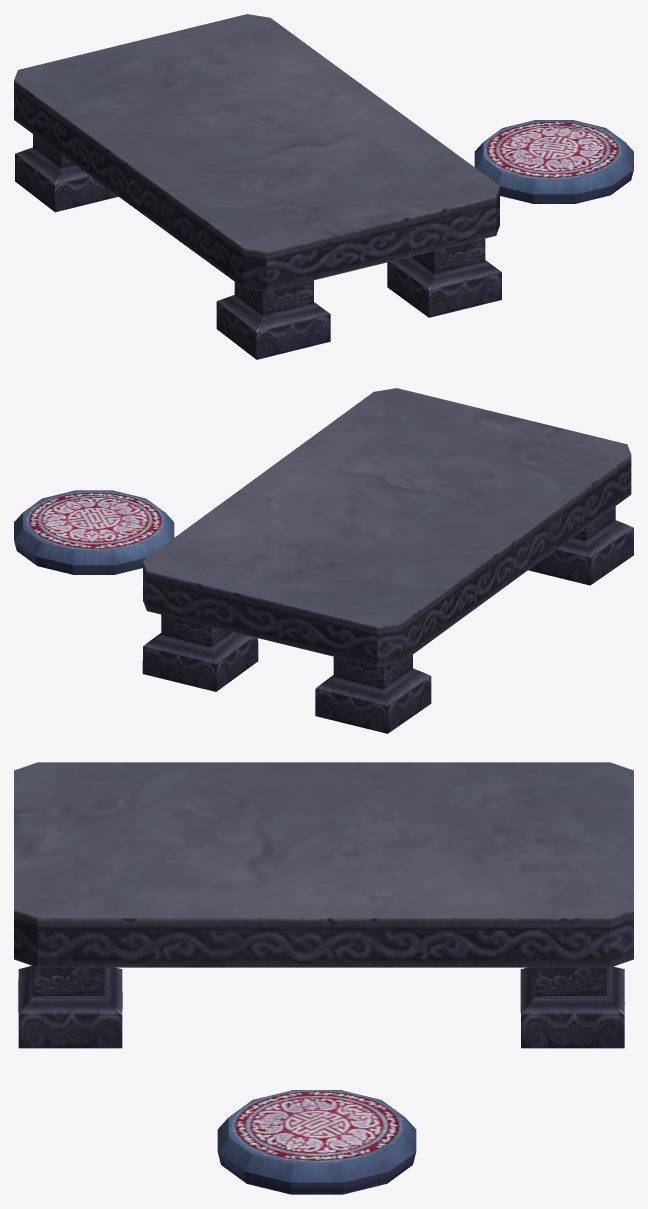
File: DZMG_YHY_ShiaZhuo.FBX
The picture shows the model from 3 angles, top to bottom: view 1: azimuth 30°, elevation 25°; view 2: azimuth 150°, elevation 25°; view 3: azimuth 270°, elevation 25°; orthographic projection. The views are drawn at different scales.
Parts seen in each view (by area): view 1: DZMG_YHY_ShiaZhuo, DZMG_YHY_ShiaZhuoPuTuan; view 2: DZMG_YHY_ShiaZhuo, DZMG_YHY_ShiaZhuoPuTuan; view 3: DZMG_YHY_ShiaZhuo, DZMG_YHY_ShiaZhuoPuTuan.
Boxes of the visible parts, <box> form: DZMG_YHY_ShiaZhuo: <box>14,14,501,359</box>; DZMG_YHY_ShiaZhuoPuTuan: <box>474,120,633,203</box>; DZMG_YHY_ShiaZhuo: <box>142,388,633,733</box>; DZMG_YHY_ShiaZhuoPuTuan: <box>14,490,174,574</box>; DZMG_YHY_ShiaZhuo: <box>14,762,633,1048</box>; DZMG_YHY_ShiaZhuoPuTuan: <box>217,1090,416,1194</box>.
Bounding box in the file's own units: 285 × 59.96 × 250.
